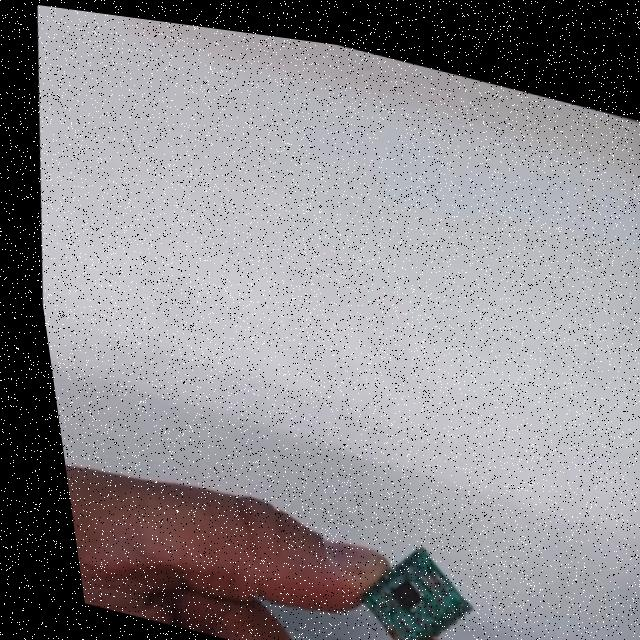Chip: (344, 531, 490, 640)
